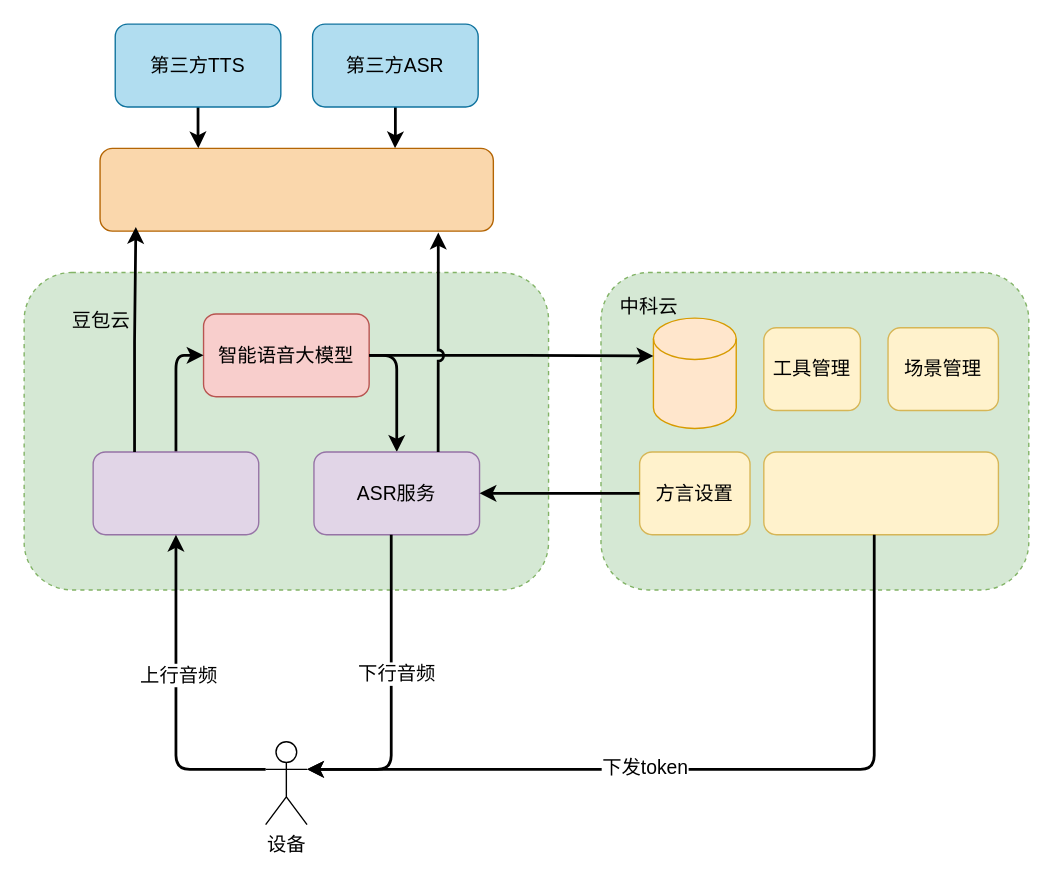
Image size: 1053x882. Some labels were removed from this diagram. Here are the shapes that lost their labels. From the top down, the centre of each, then its label:
At (x=296, y=189): "豆包ai网关协议".
At (x=694, y=372): "聊天记录".
At (x=175, y=493): "TTS服务".
At (x=880, y=493): "设备管理".
